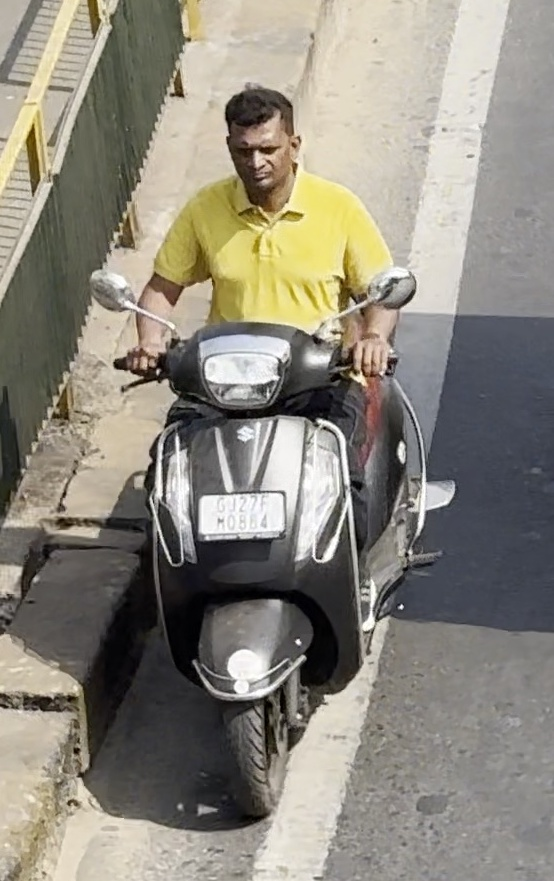BikeWithRider: (73, 78, 461, 826)
NoHelmet: (206, 79, 321, 202)
